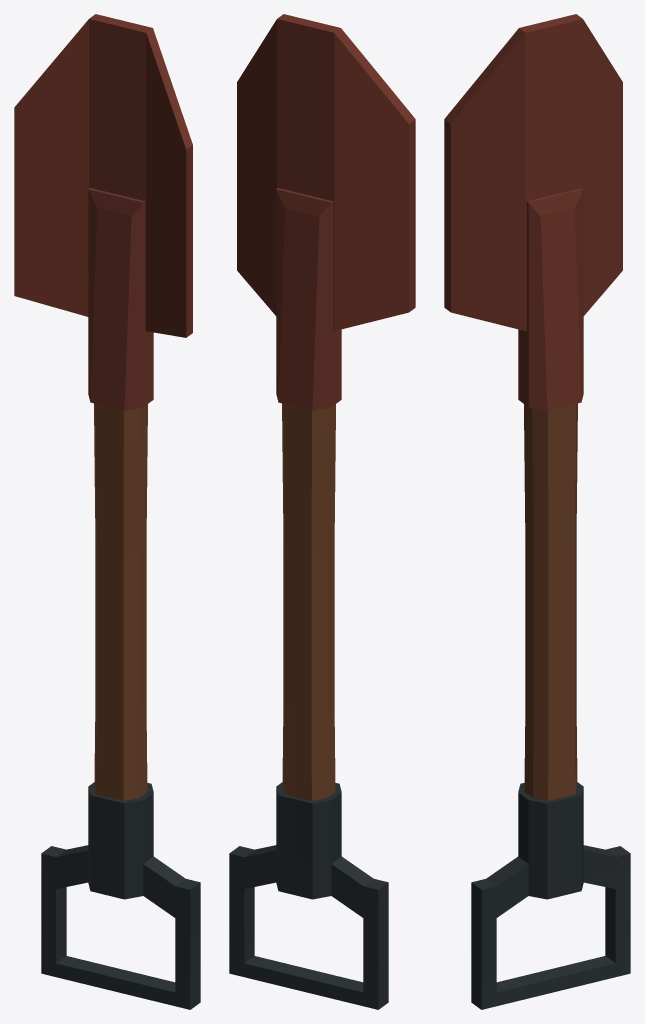
File: shovel_copper.glb
The picture shows the model from 3 angles, left to right: view 1: azimuth 30°, elevation 25°; view 2: azimuth 210°, elevation 25°; view 3: azimuth 270°, elevation 25°; orthographic projection.
Visible parts, largest first — view 1: SpadeV12; view 2: SpadeV12; view 3: SpadeV12.
Part boxes in pixels (x1,y1,x2,y2): SpadeV12: [14, 14, 200, 1009]; SpadeV12: [229, 14, 415, 1009]; SpadeV12: [444, 14, 630, 1009].
Bounding box in the file's own units: 0.1385 × 1.07 × 0.1878.
2 materials, 2 textured.
